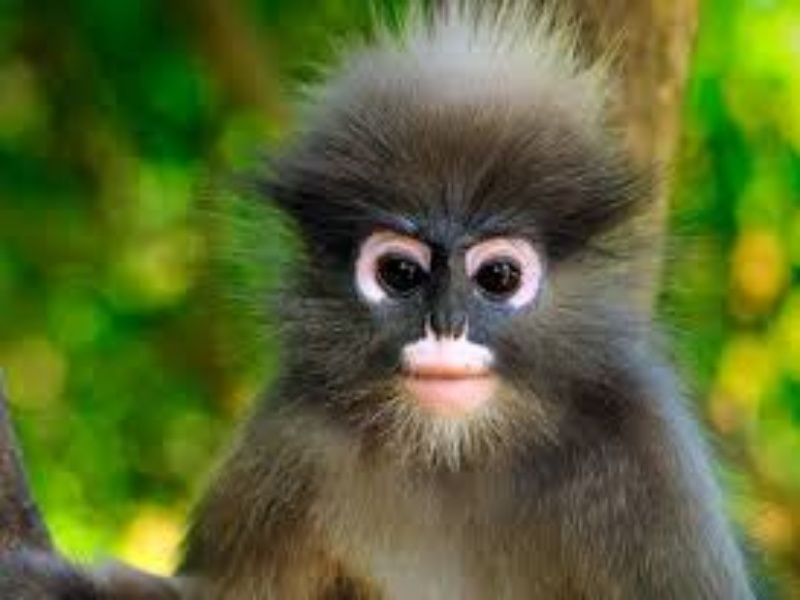monkey: (197, 39, 757, 600)
